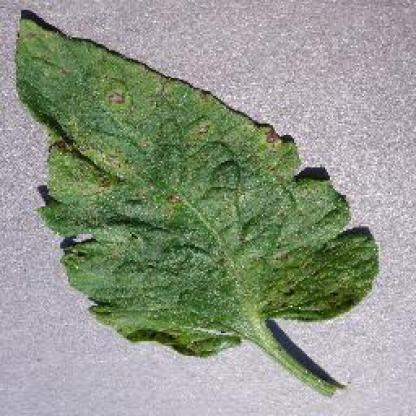bad leaf: (0, 5, 395, 405)
